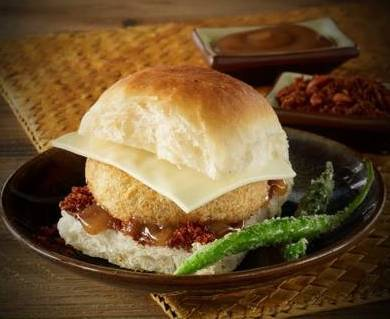vada pav: (70, 69, 191, 257)
